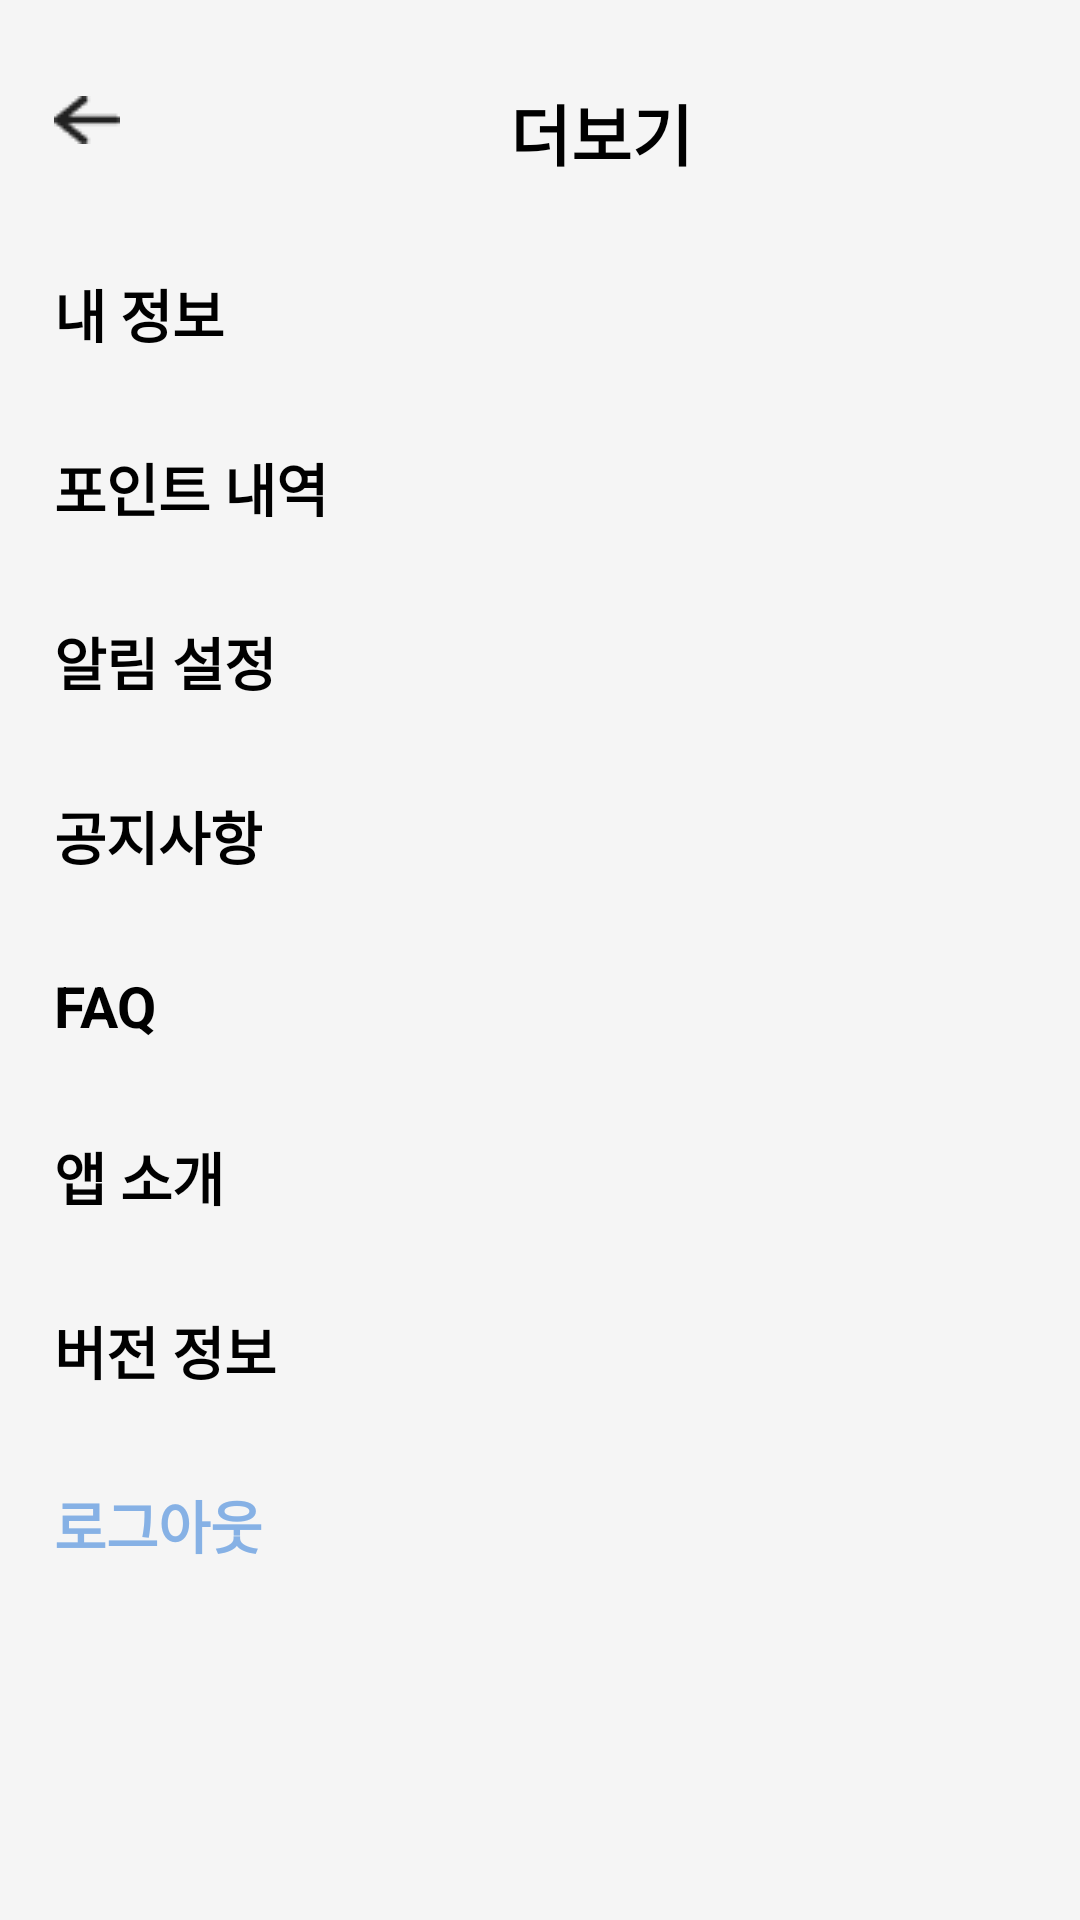

Where icons sit on this 1080*1920 app screen, as (x1, y1, x2, y2):
arrow: (54, 96, 120, 144)
